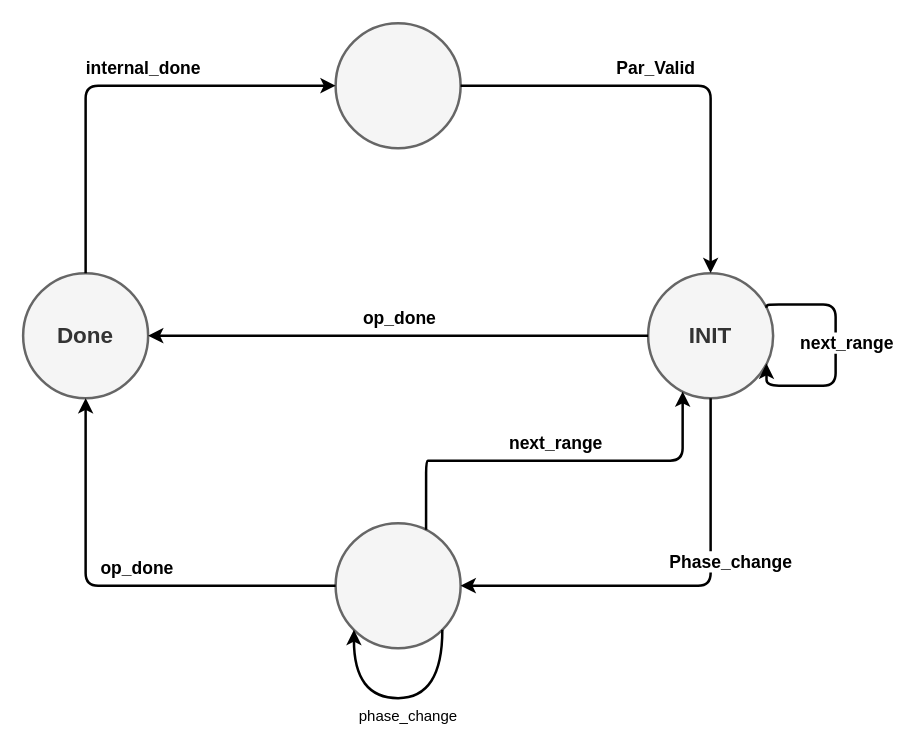
Some shapes in this 915 by 756 pixel diagram are drawn without their labels. The centre of each missing label's shape, as x and y in pixels:
"ACC" goes at (397,585).
"Idle" goes at (397,85).
